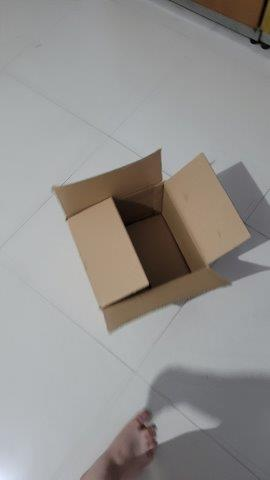kardus: (53, 147, 251, 327)
